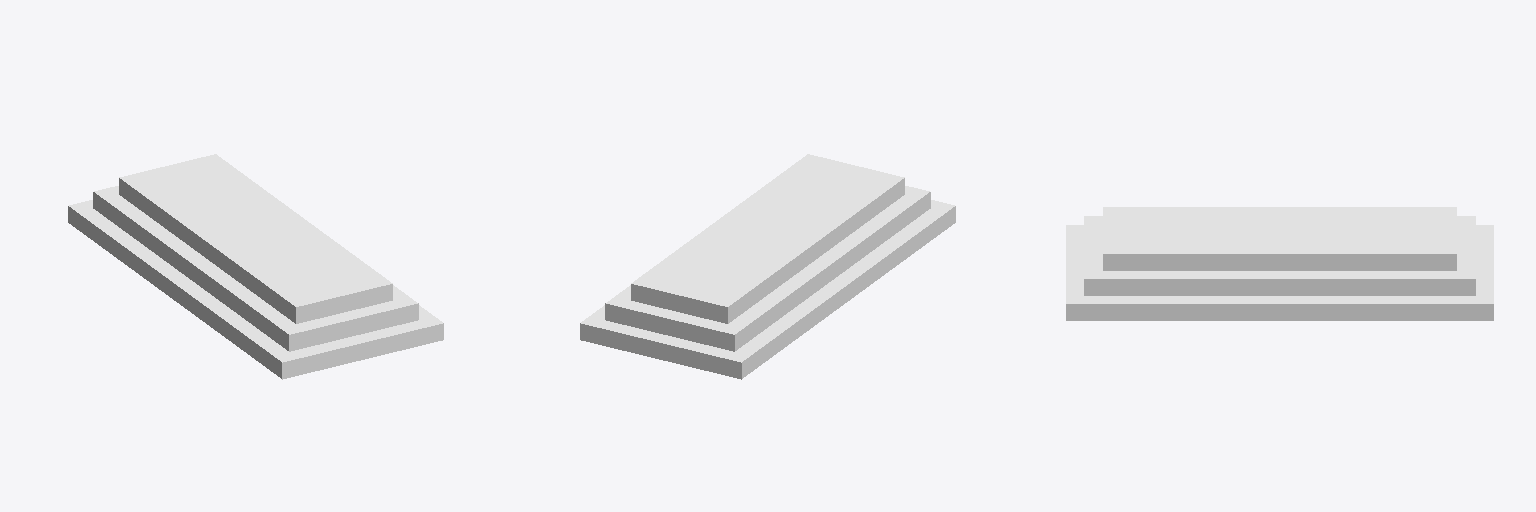
File: lighton.obj
The picture shows the model from 3 angles: view 1: azimuth 30°, elevation 25°; view 2: azimuth 150°, elevation 25°; view 3: azimuth 270°, elevation 25°; orthographic projection.
Parts seen in each view (by area): view 1: object 1; view 2: object 1; view 3: object 1.
Boxes of the visible parts, x1=… form: object 1: x1=68, y1=154, x2=443, y2=379; object 1: x1=580, y1=154, x2=955, y2=379; object 1: x1=1066, y1=207, x2=1493, y2=320.
Bounding box in the file's own units: 1 × 0.3 × 2.3.